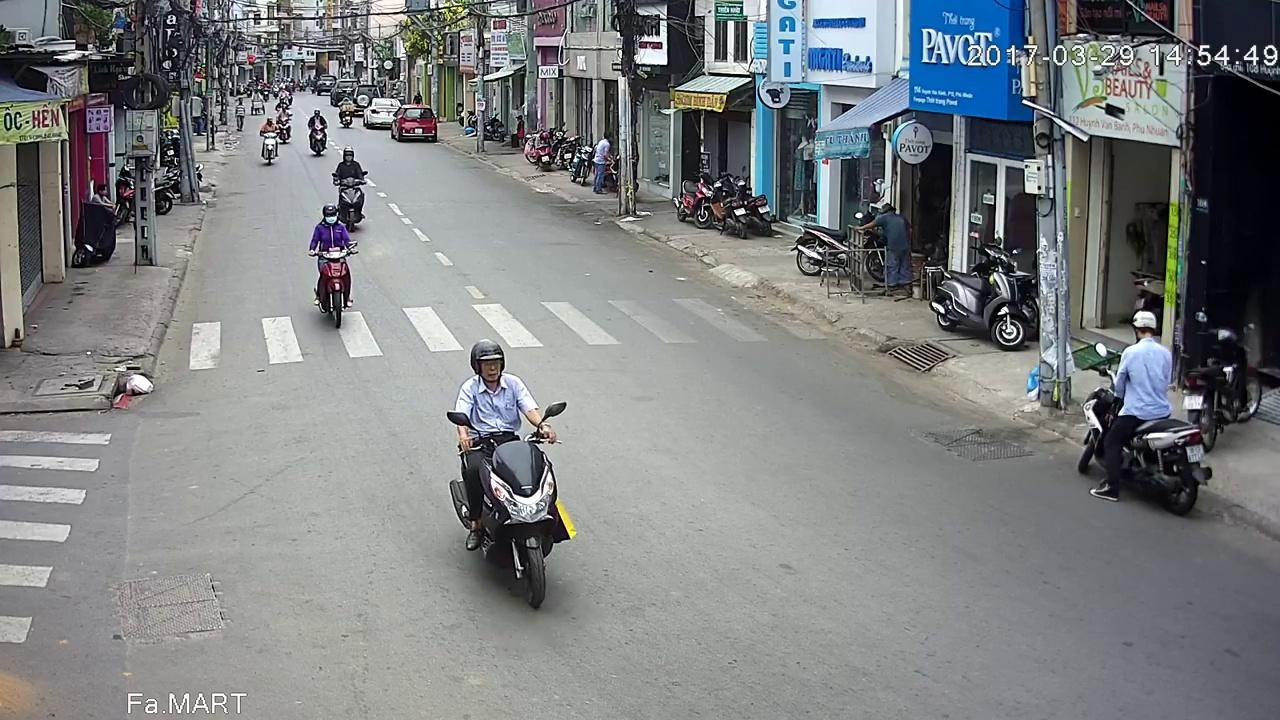xe hoi: (390, 39, 438, 77)
xe may: (438, 341, 570, 612), (1073, 309, 1208, 513), (307, 201, 359, 330), (333, 143, 370, 229), (306, 109, 329, 157), (261, 116, 281, 165)
